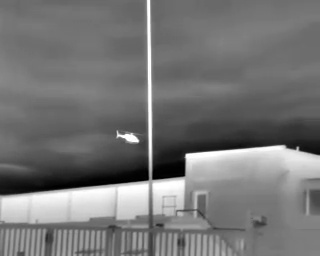HELICOPTER: (113, 126, 145, 149)
